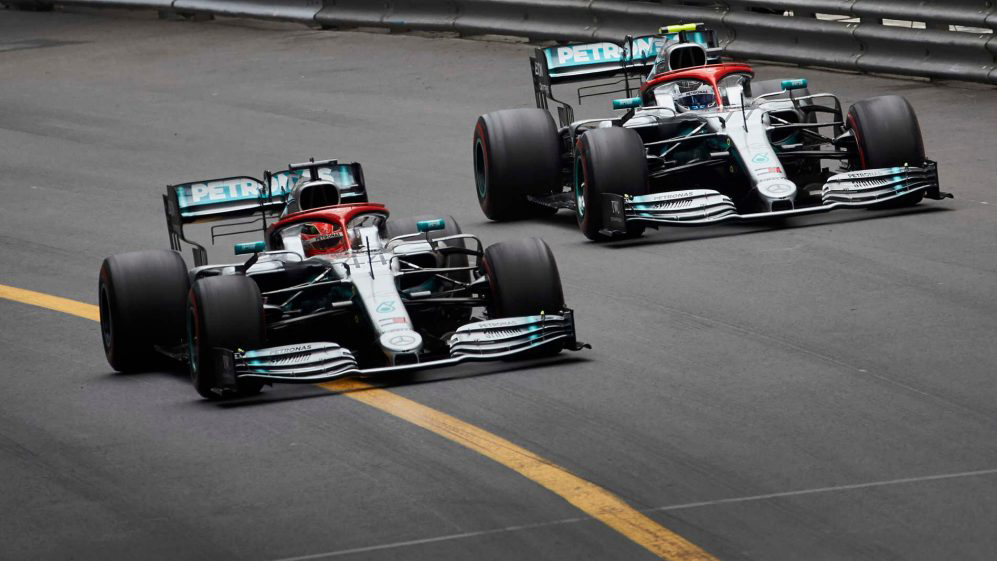F1 Car: (86, 147, 604, 409), (465, 15, 963, 245)
